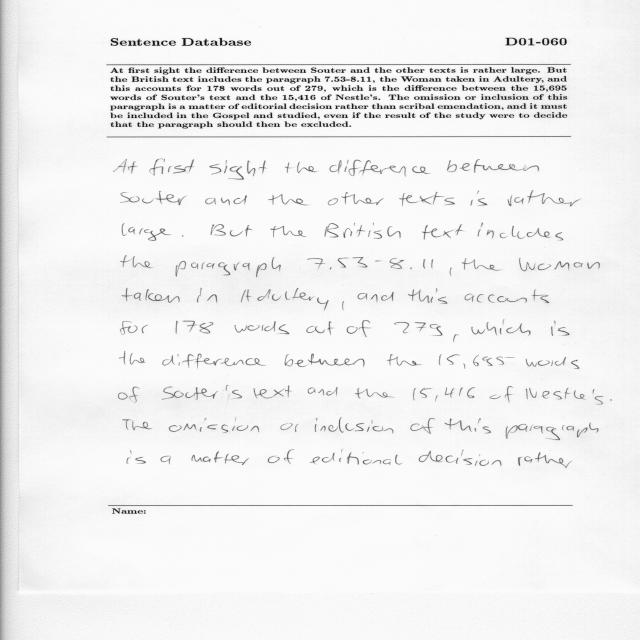word: (176, 257, 281, 277), (241, 288, 329, 310), (329, 160, 430, 177), (162, 353, 266, 369), (506, 423, 599, 440), (307, 257, 433, 269), (310, 449, 402, 465), (478, 223, 563, 240), (169, 418, 259, 433), (419, 450, 501, 466), (526, 388, 603, 405), (447, 159, 539, 173), (315, 418, 393, 434), (325, 223, 401, 239), (162, 385, 243, 400), (507, 191, 581, 207), (210, 160, 268, 180), (439, 354, 515, 369), (465, 290, 550, 303), (519, 258, 600, 271), (284, 354, 365, 367), (471, 320, 531, 336), (120, 191, 187, 205), (122, 223, 171, 241), (122, 288, 180, 303), (413, 387, 475, 401), (518, 452, 572, 468), (191, 451, 249, 465), (399, 192, 455, 206), (149, 159, 194, 176), (445, 418, 491, 434), (328, 192, 384, 205), (235, 321, 290, 334), (422, 224, 464, 240), (394, 322, 442, 336), (526, 357, 579, 369), (408, 288, 447, 304), (211, 224, 253, 237), (254, 385, 292, 399), (462, 258, 501, 271), (176, 321, 213, 334), (205, 195, 247, 206), (268, 194, 308, 205), (347, 320, 371, 337), (387, 354, 421, 366), (489, 386, 513, 403), (355, 388, 395, 398), (410, 418, 435, 434), (270, 226, 306, 237), (120, 321, 148, 335), (306, 321, 334, 335), (268, 449, 294, 464), (119, 351, 146, 365), (113, 159, 138, 174), (121, 256, 152, 268), (285, 162, 318, 173), (358, 292, 394, 302), (123, 419, 152, 430), (197, 288, 217, 303), (119, 387, 139, 402), (551, 321, 570, 336), (308, 387, 338, 396), (127, 450, 146, 464), (471, 191, 488, 206), (281, 423, 299, 432), (161, 456, 172, 464), (453, 334, 459, 342), (342, 301, 344, 310), (450, 268, 452, 276), (182, 235, 184, 237), (610, 399, 612, 401)
